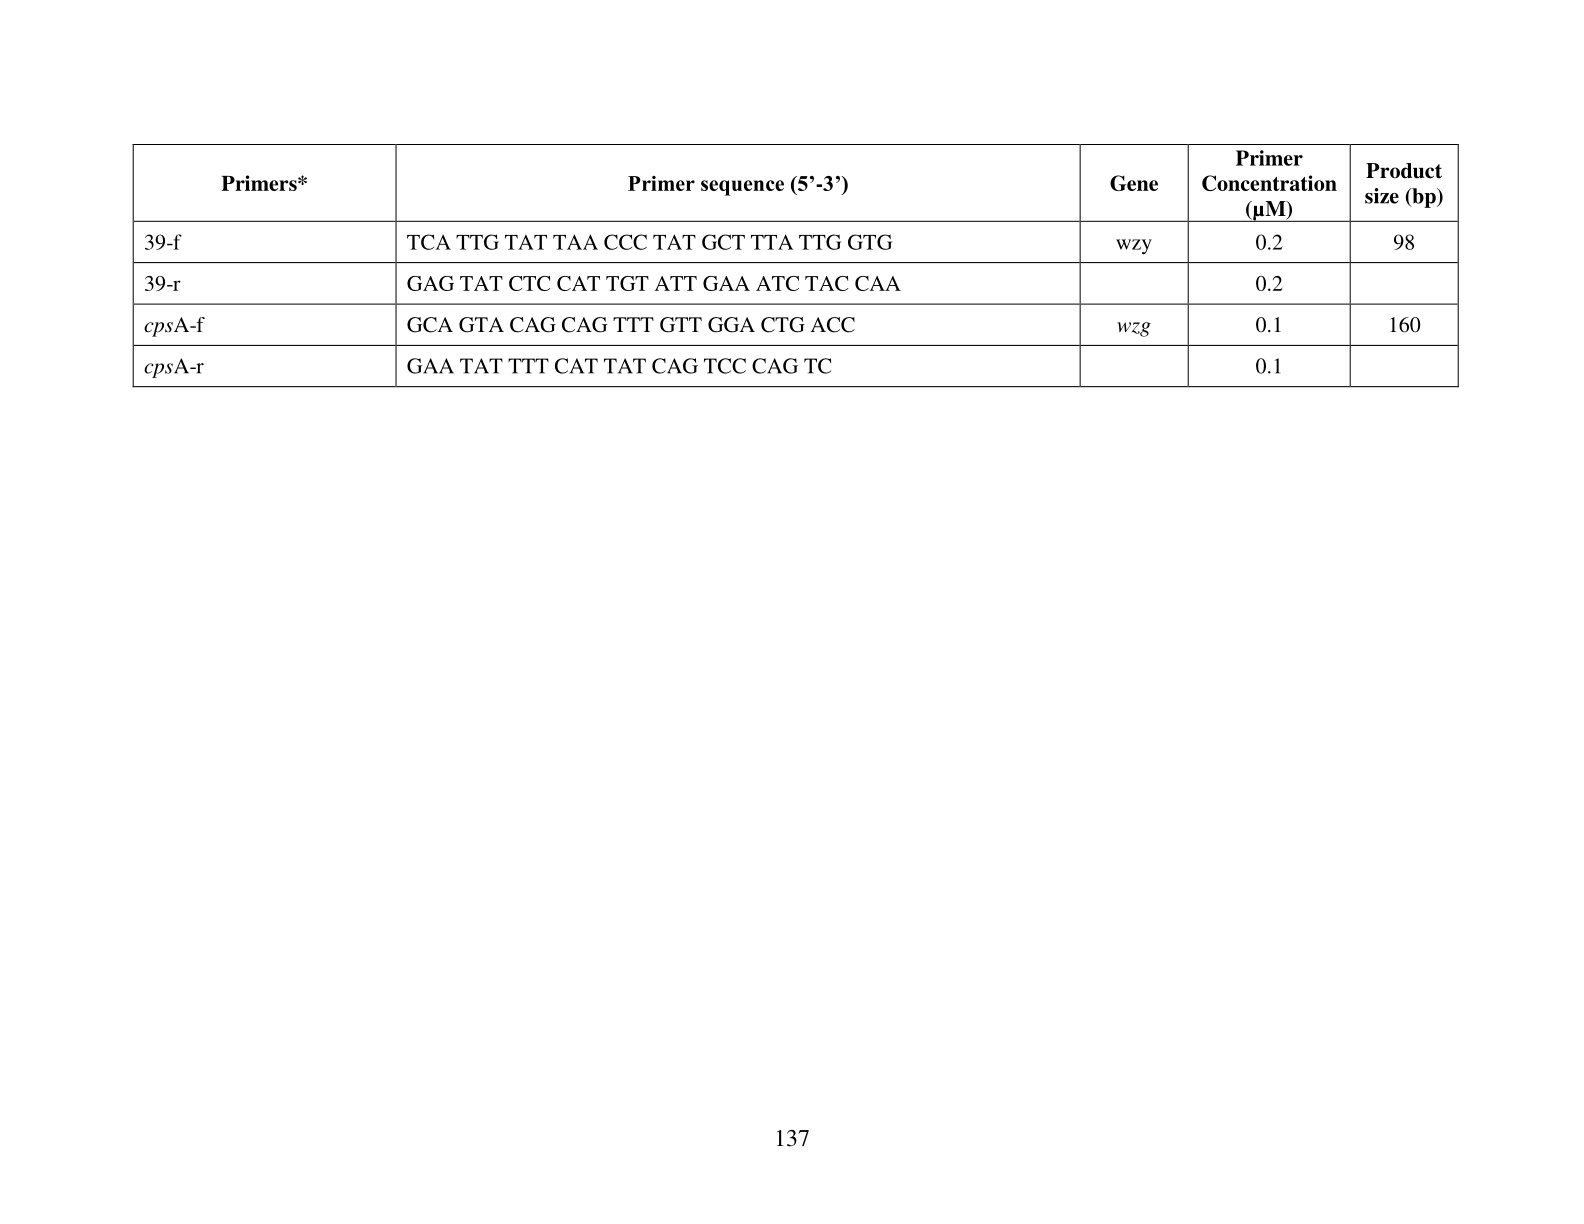full_lined: (132, 144, 1459, 388)
